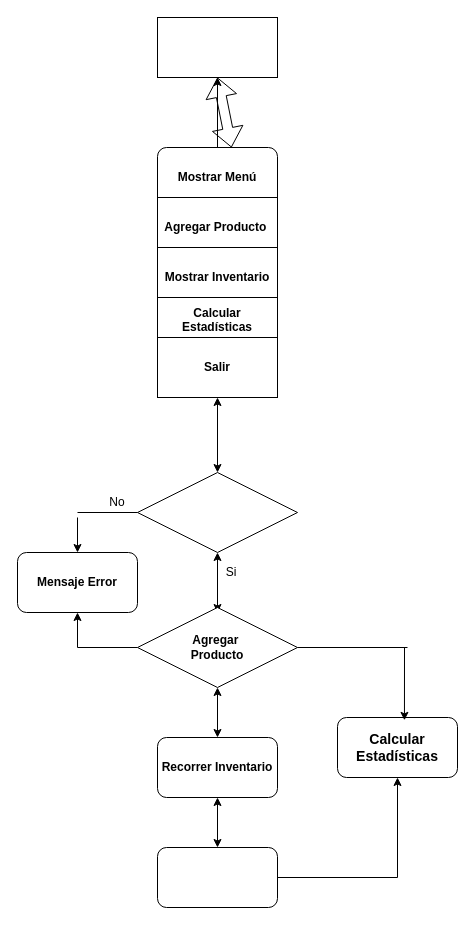
Some shapes in this 475 by 925 pixel diagram are drawn without their labels. The shapes that lost their labels are listed below. From the top down, each one's box as (x1, y1, x2, y2) in pixels, then its label:
(156, 16, 278, 78): Iniciar
(136, 472, 298, 552): Opción Valida
(156, 846, 278, 908): Mostrar Resultados
